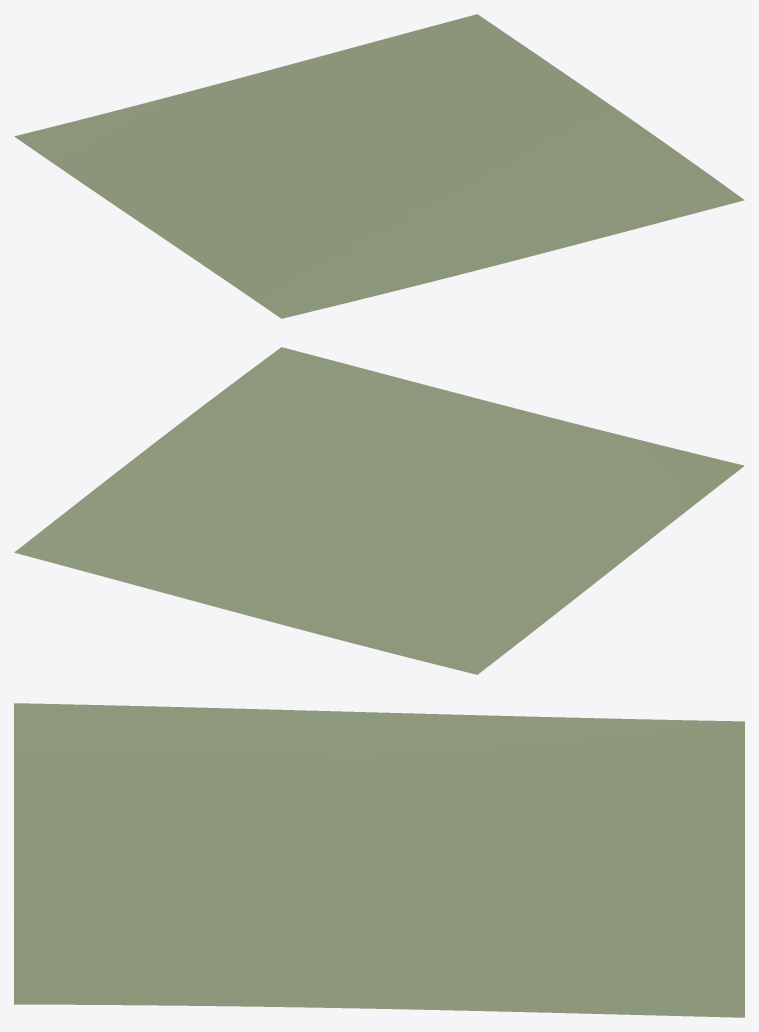
Rendered from expanse-6-13.glb.
The picture shows the model from 3 angles, top to bottom: view 1: azimuth 30°, elevation 25°; view 2: azimuth 150°, elevation 25°; view 3: azimuth 270°, elevation 25°; orthographic projection. The views are drawn at different scales.
Visible parts, largest first — view 1: expanse-6-13; view 2: expanse-6-13; view 3: expanse-6-13.
Boxes of the visible parts, x1,y1,x2,y2 form: expanse-6-13: (14,14,744,318); expanse-6-13: (14,347,744,674); expanse-6-13: (14,703,744,1017).
Bounding box in the file's own units: 256 × 9.97 × 256.
